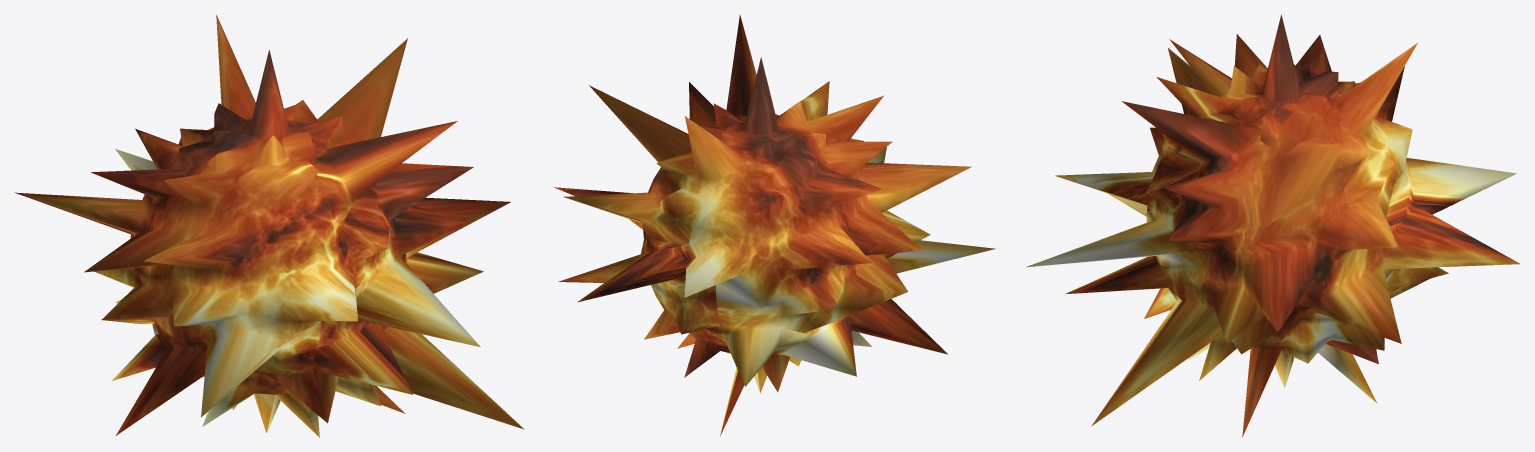
Rendered from explosion.fbx.
3 renders of one model, left to right at view 1: azimuth 30°, elevation 25°; view 2: azimuth 150°, elevation 25°; view 3: azimuth 270°, elevation 25°, orthographic. The views are drawn at different scales.
Visible parts, largest first — view 1: Sphere; view 2: Sphere; view 3: Sphere.
Boxes of the visible parts, x1,y1,x2,y2 form: Sphere: (15,15,524,437); Sphere: (554,15,995,437); Sphere: (1026,14,1519,437).
Size of the model in its own units: 7.13 by 6.33 by 7.28.
